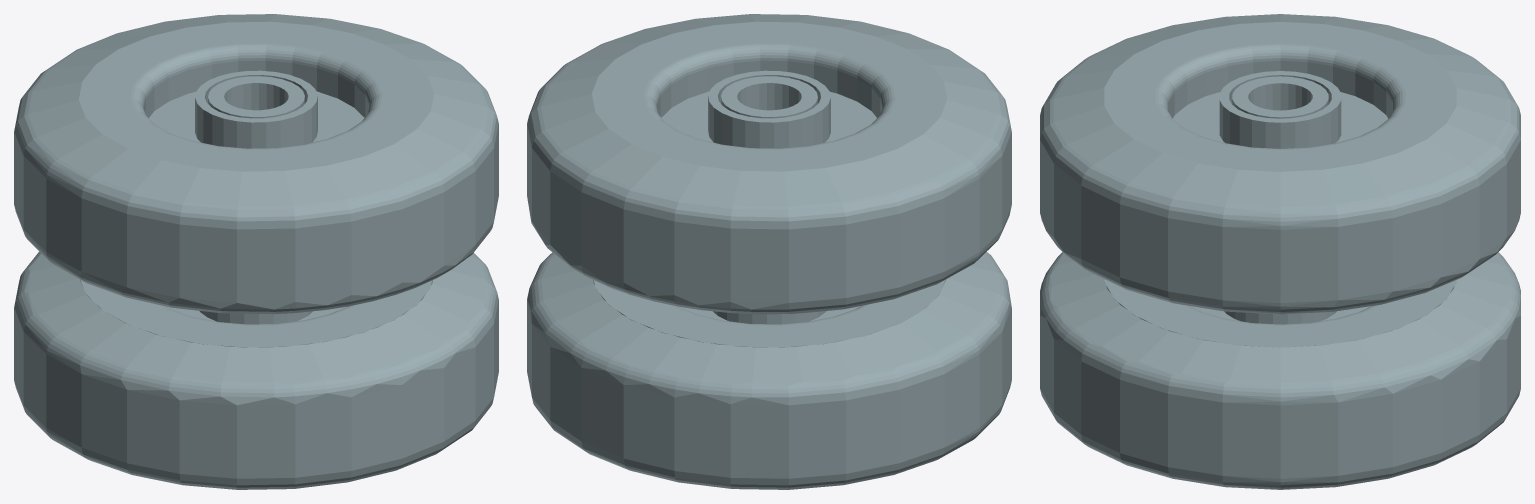
Rendered from castor.dae.
The picture shows the model from 3 angles, left to right: view 1: azimuth 30°, elevation 25°; view 2: azimuth 150°, elevation 25°; view 3: azimuth 270°, elevation 25°; orthographic projection.
Parts seen in each view (by area): view 1: node0; view 2: node0; view 3: node0.
Boxes of the visible parts, x1,y1,x2,y2 form: node0: [14, 14, 498, 489]; node0: [527, 14, 1011, 489]; node0: [1040, 14, 1520, 489].
Size of the model in its own units: 0.075 by 0.0745 by 0.053.
